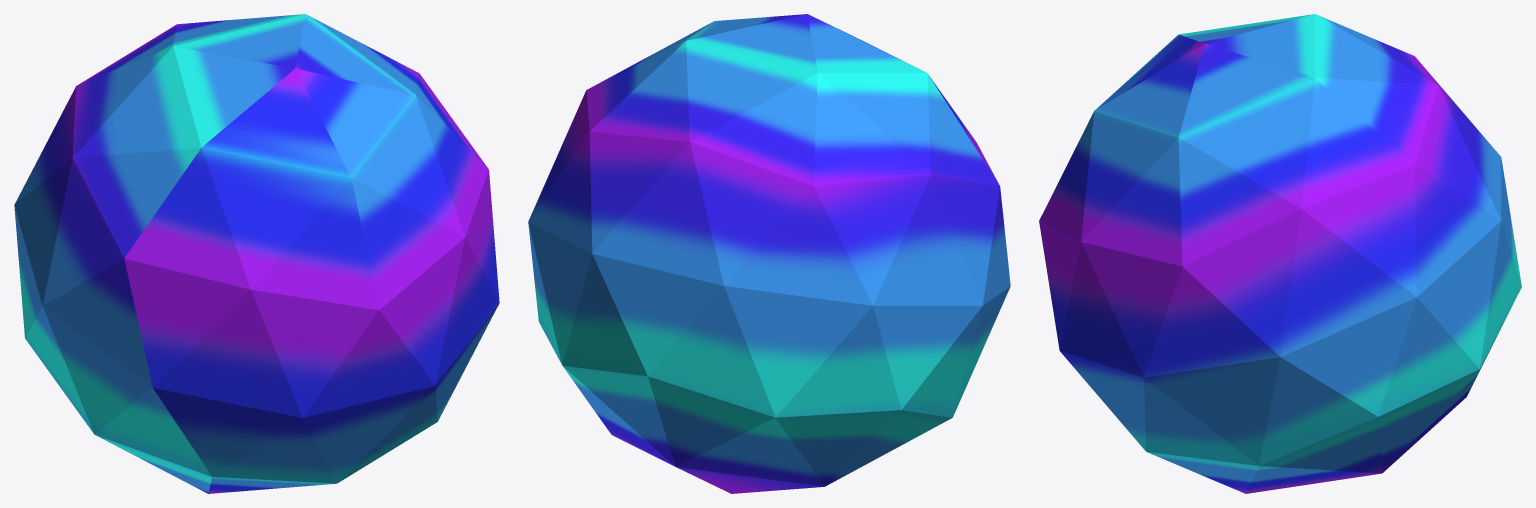
File: cacoon.glb
The picture shows the model from 3 angles, left to right: view 1: azimuth 30°, elevation 25°; view 2: azimuth 150°, elevation 25°; view 3: azimuth 270°, elevation 25°; orthographic projection.
Visible parts, largest first — view 1: Icosphere; view 2: Icosphere; view 3: Icosphere.
Boxes of the visible parts, x1,y1,x2,y2 form: Icosphere: [14, 14, 499, 493]; Icosphere: [528, 14, 1010, 493]; Icosphere: [1039, 14, 1521, 493].
Size of the model in its own units: 2 by 1.9 by 1.98.
Materials: 1 (1 with a texture image).
